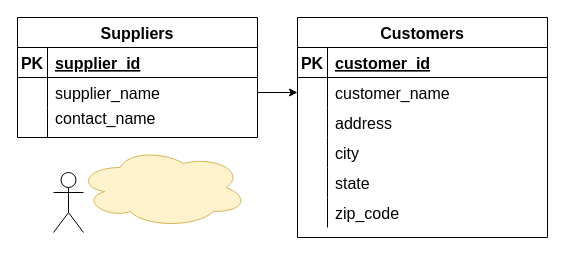
The diagram is 565 pixels wide and 275 high, and some of its shapes have lost their labels. The shapes that lost their labels are listed below. From the top down, each one's centre as x and y in pixels, then its label:
point (68, 202): Elie
point (162, 187): OMG I don't have to use Graphviz?!?!
